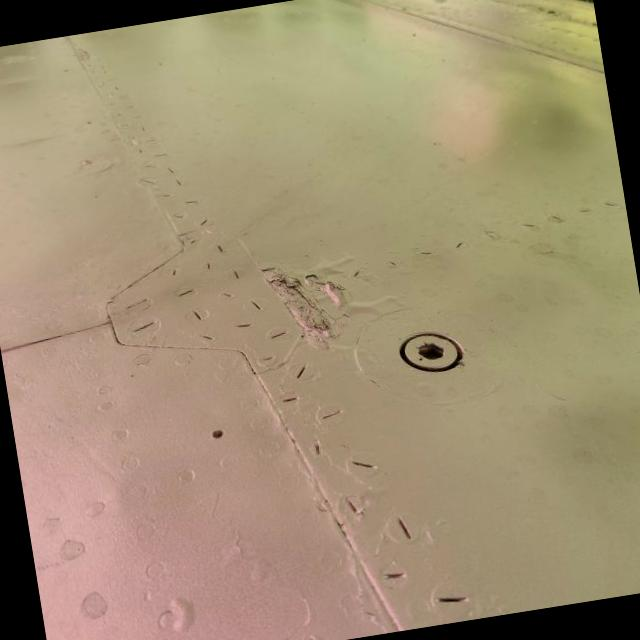paint-off: (252, 248, 364, 366)
